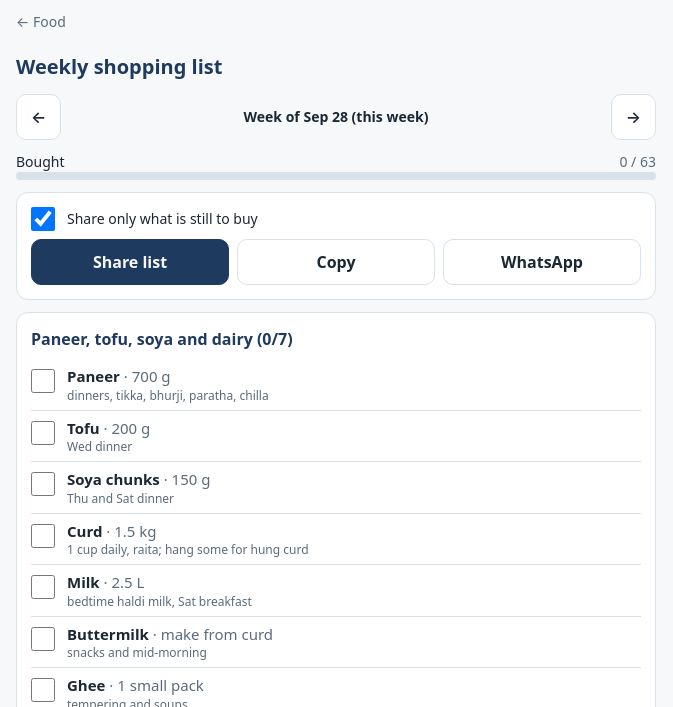
Test: Shopping › falls back to copy without Web Share
What coordinates should you click on to do the following:
click the button "Share list"
I would click on:
 (130, 262)
Its box is [31, 239, 229, 285].
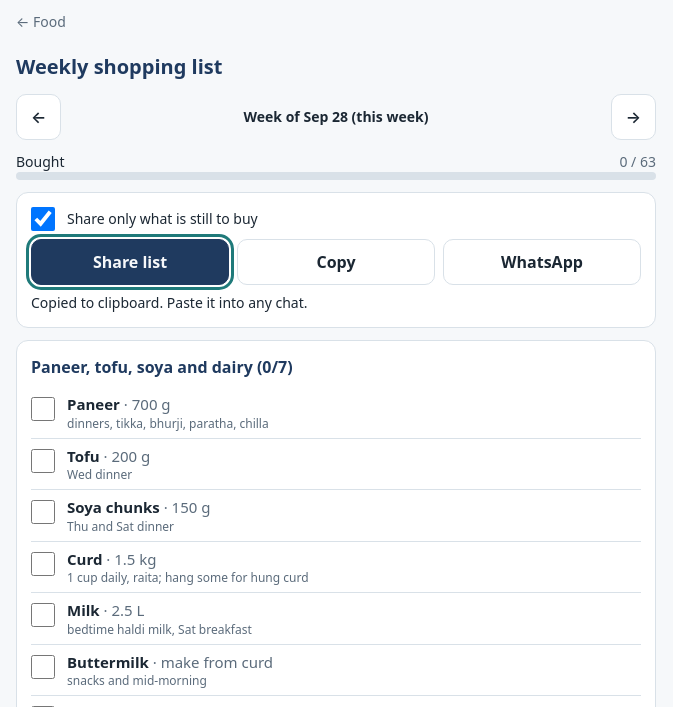
Check: the text "Copied to clipboard. Paste it into any chat." is shown, box [31, 293, 308, 312]
